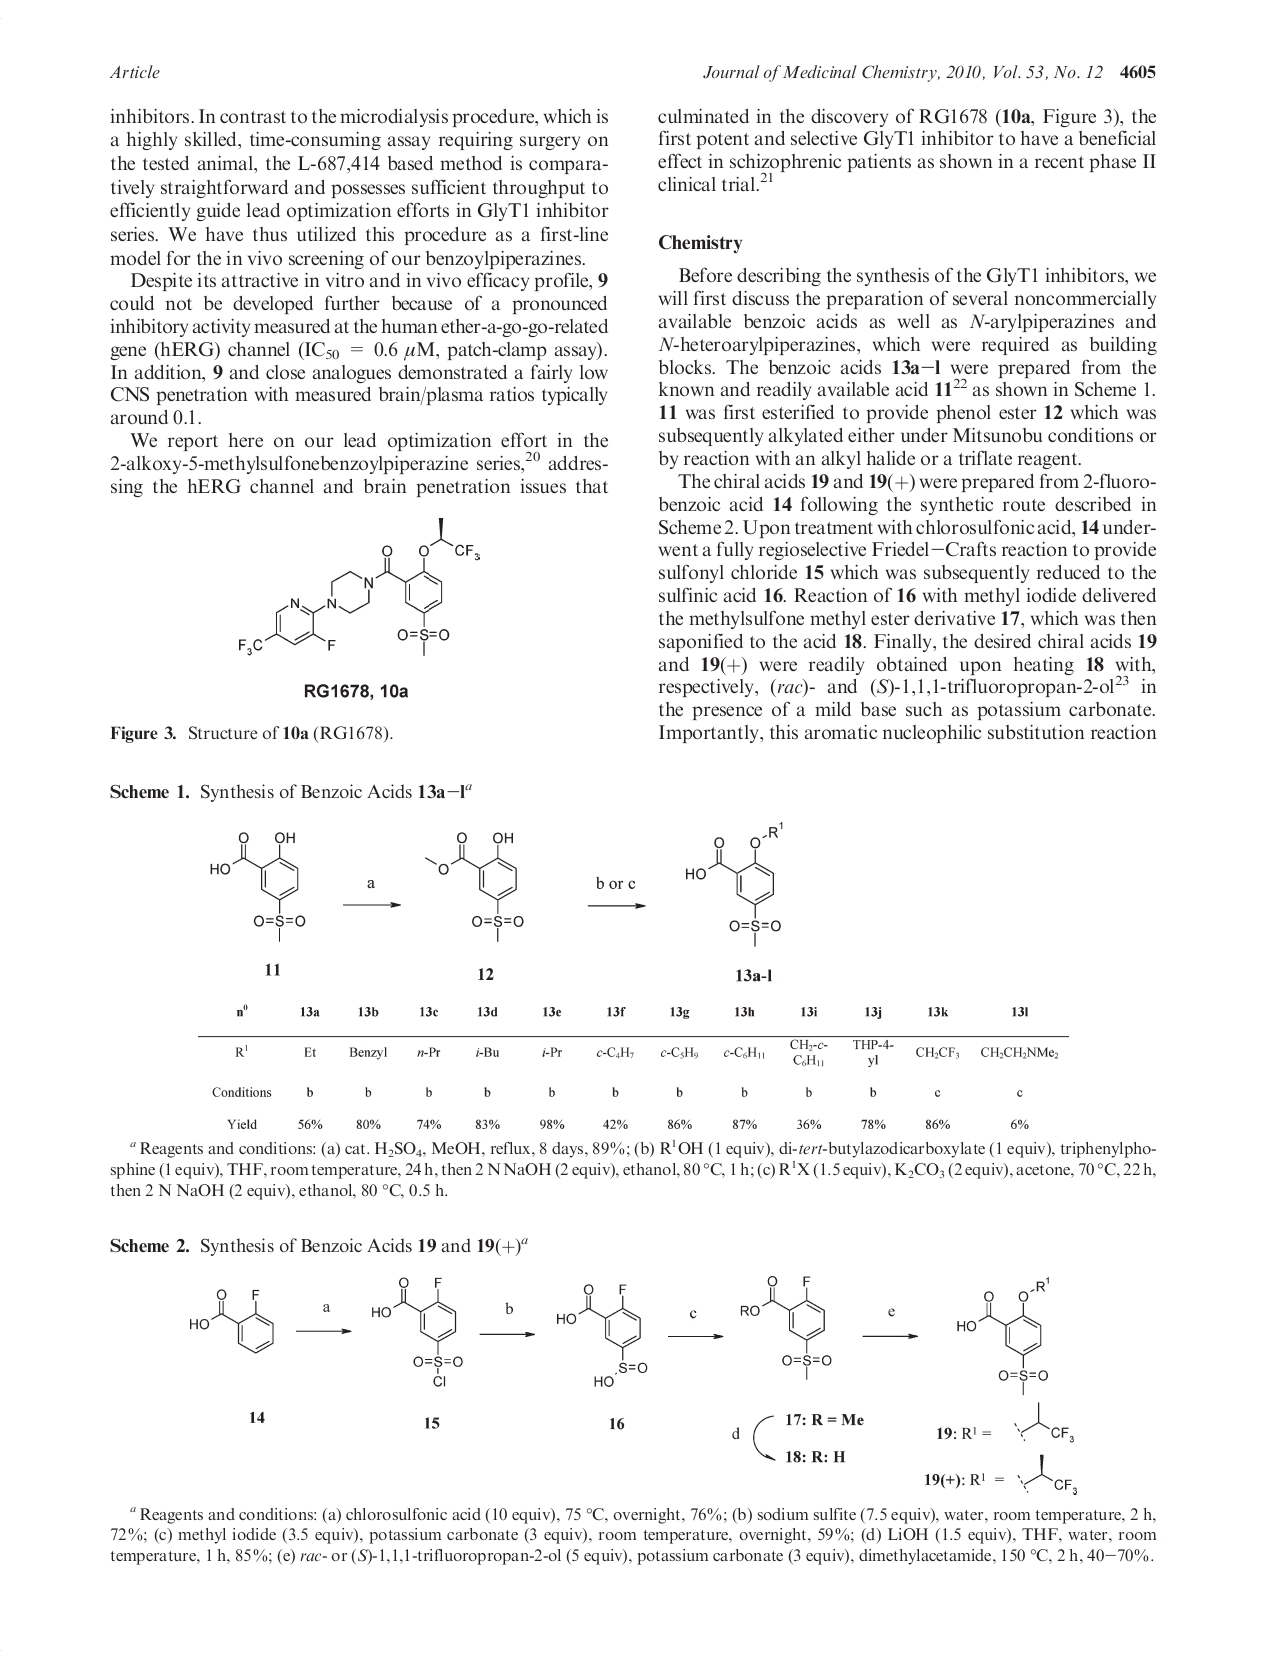exist_molecular: (229, 509, 483, 668), (953, 1266, 1067, 1402), (420, 821, 536, 952), (681, 817, 793, 951), (209, 823, 309, 951), (555, 1277, 660, 1395), (371, 1270, 464, 1395), (739, 1265, 834, 1380), (188, 1286, 281, 1356), (1011, 1450, 1088, 1505), (1009, 1398, 1080, 1452)
